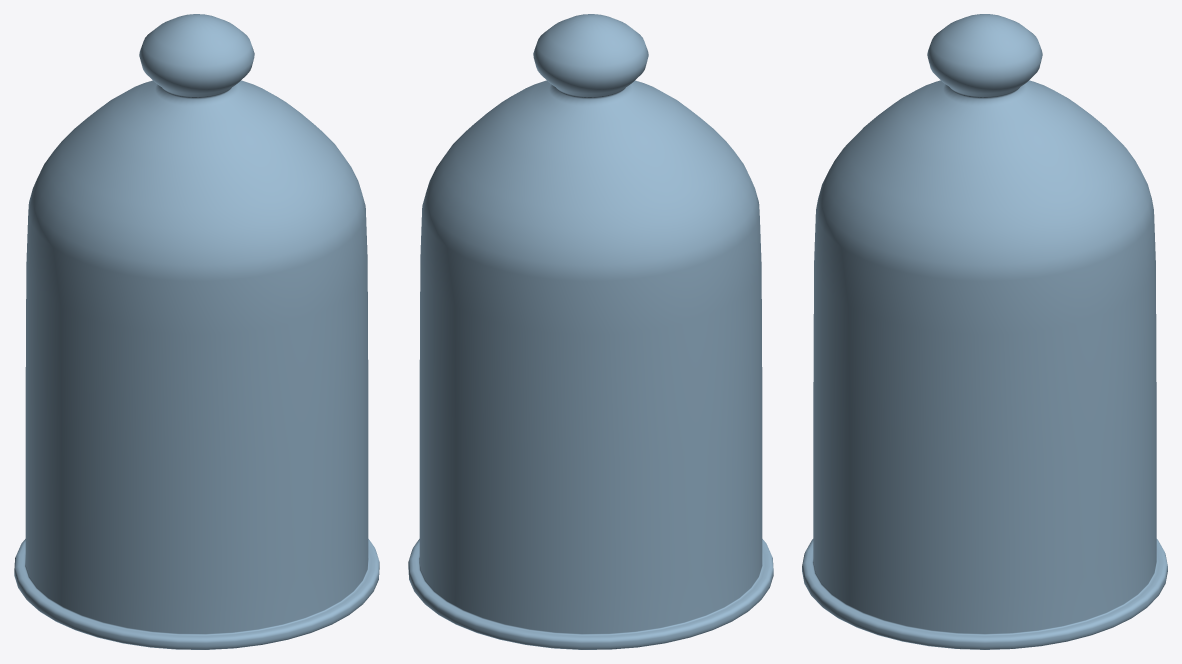
The model's file is cloche.fbx.
3 renders of one model, left to right at view 1: azimuth 30°, elevation 25°; view 2: azimuth 150°, elevation 25°; view 3: azimuth 270°, elevation 25°, orthographic.
Visible parts, largest first — view 1: pCylinder1; view 2: pCylinder1; view 3: pCylinder1.
Boxes of the visible parts, left/top/right/bottom form: pCylinder1: left=14, top=14, right=379, bottom=649; pCylinder1: left=408, top=14, right=773, bottom=649; pCylinder1: left=802, top=14, right=1167, bottom=649.
Bounding box in the file's own units: 9.57 × 16.05 × 9.57.
